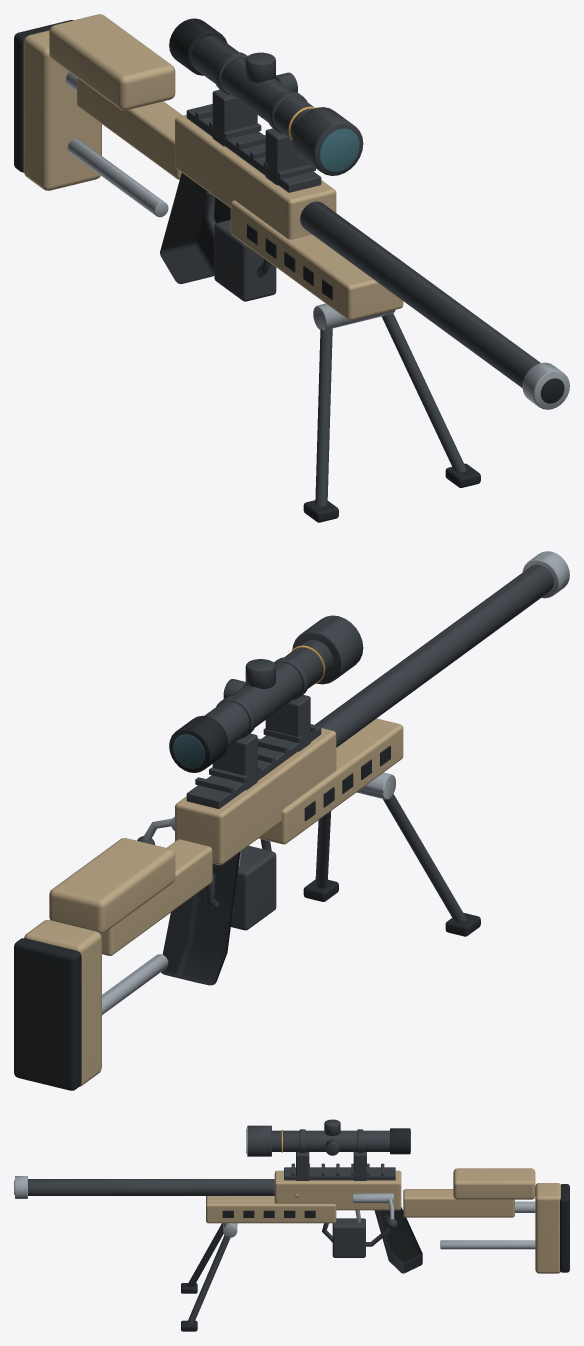
The model's file is ks-rifle-final.glb.
The picture shows the model from 3 angles, top to bottom: view 1: azimuth 30°, elevation 25°; view 2: azimuth 150°, elevation 25°; view 3: azimuth 270°, elevation 25°; orthographic projection. The views are drawn at different scales.
Visible parts, largest first — view 1: static_batch_Desert_sand_enamel, static_batch_Graphite, static_batch_Soft_matte_contact_pads, static_batch_Satin_stainless_details, scope_glass_front; view 2: static_batch_Desert_sand_enamel, static_batch_Graphite, static_batch_Soft_matte_contact_pads, static_batch_Satin_stainless_details, scope_glass_rear; view 3: static_batch_Desert_sand_enamel, static_batch_Graphite, static_batch_Soft_matte_contact_pads, static_batch_Satin_stainless_details, bolt.
Part boxes in pixels (left/top/right/bottom): static_batch_Desert_sand_enamel: left=23, top=14, right=403, bottom=320; static_batch_Graphite: left=186, top=35, right=540, bottom=506; static_batch_Soft_matte_contact_pads: left=14, top=18, right=564, bottom=522; static_batch_Satin_stainless_details: left=66, top=72, right=569, bottom=409; scope_glass_front: left=319, top=128, right=359, bottom=171; static_batch_Desert_sand_enamel: left=24, top=718, right=403, bottom=1086; static_batch_Graphite: left=186, top=564, right=553, bottom=930; static_batch_Soft_matte_contact_pads: left=14, top=715, right=480, bottom=1090; static_batch_Satin_stainless_details: left=102, top=551, right=569, bottom=1014; scope_glass_rear: left=173, top=734, right=204, bottom=768; static_batch_Desert_sand_enamel: left=206, top=1168, right=560, bottom=1273; static_batch_Graphite: left=28, top=1119, right=395, bottom=1323; static_batch_Soft_matte_contact_pads: left=14, top=1128, right=569, bottom=1331; static_batch_Satin_stainless_details: left=15, top=1176, right=535, bottom=1249; bolt: left=353, top=1193, right=393, bottom=1202.
Size of the model in its own units: 0.278 by 0.556 by 1.49.
